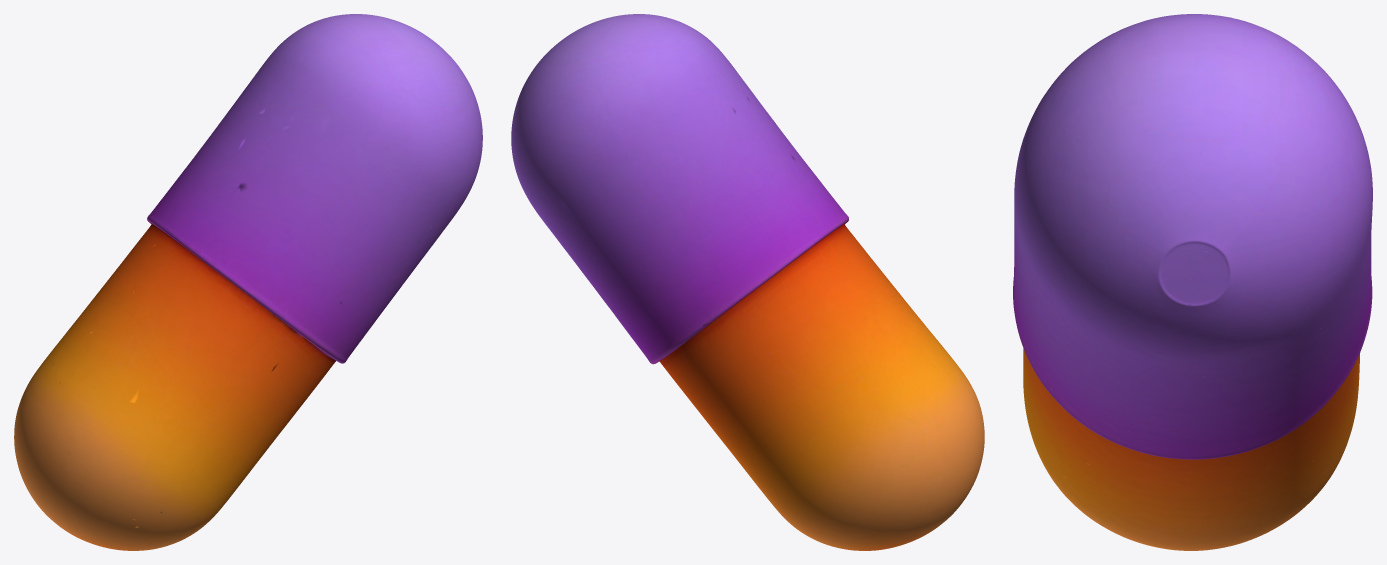
File: pill.glb
3 views of the same model, side by side, from view 1: azimuth 30°, elevation 25°; view 2: azimuth 150°, elevation 25°; view 3: azimuth 270°, elevation 25° (orthographic). The views are drawn at different scales.
Visible parts, largest first — view 1: node_0; view 2: node_0; view 3: node_0.
Part boxes in pixels (bbox=[...]): node_0: bbox=[14, 14, 482, 550]; node_0: bbox=[511, 14, 984, 550]; node_0: bbox=[1013, 14, 1372, 550].
Bounding box in the file's own units: 0.9843 × 0.9839 × 0.481.
Materials: 1 (1 with a texture image).
